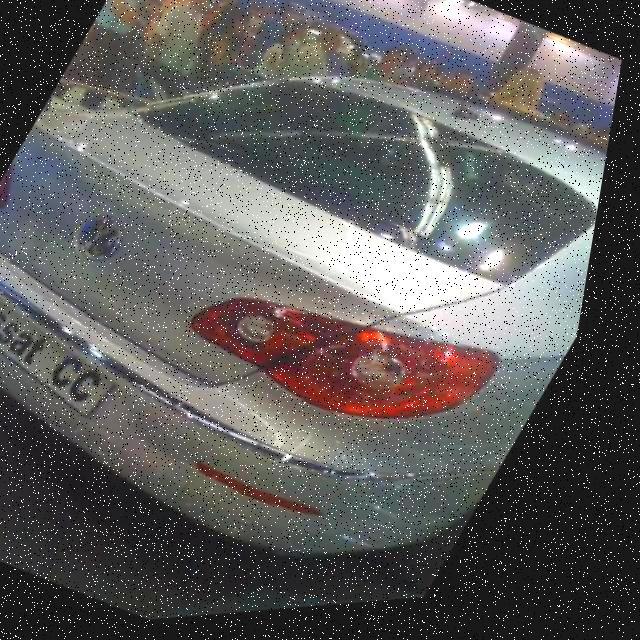license_plate: (0, 265, 163, 434)
